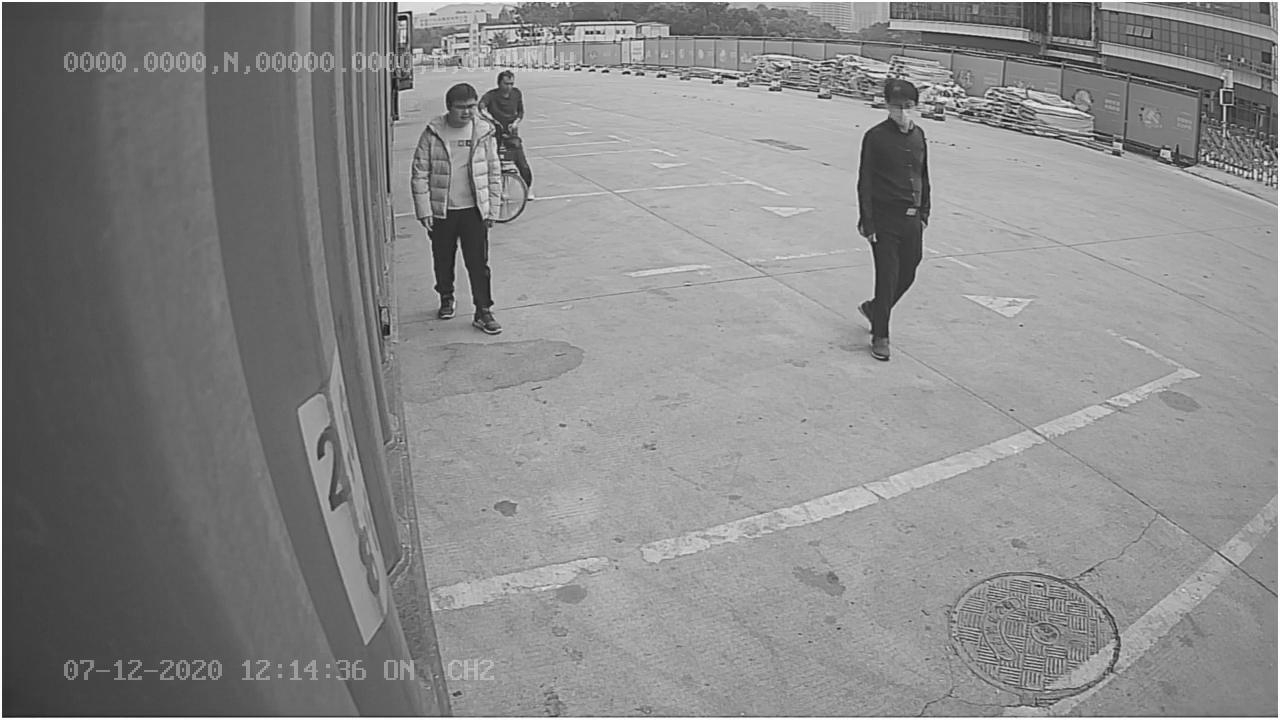person: (848, 74, 934, 358)
